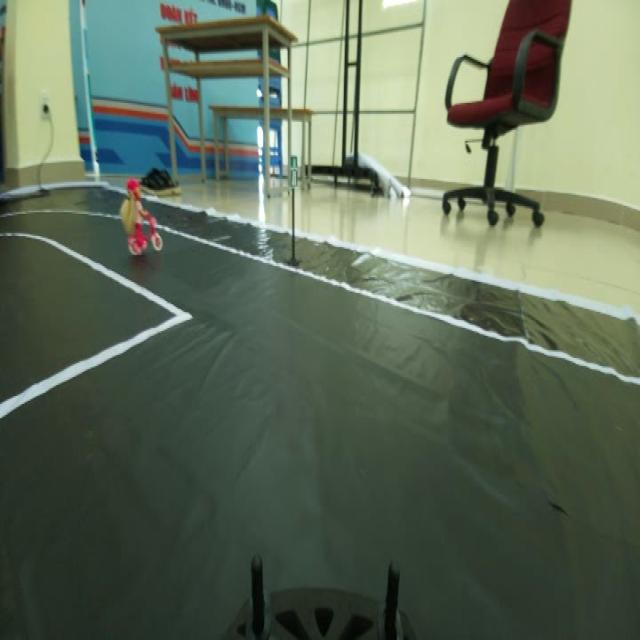pedestrian: (106, 171, 167, 257)
